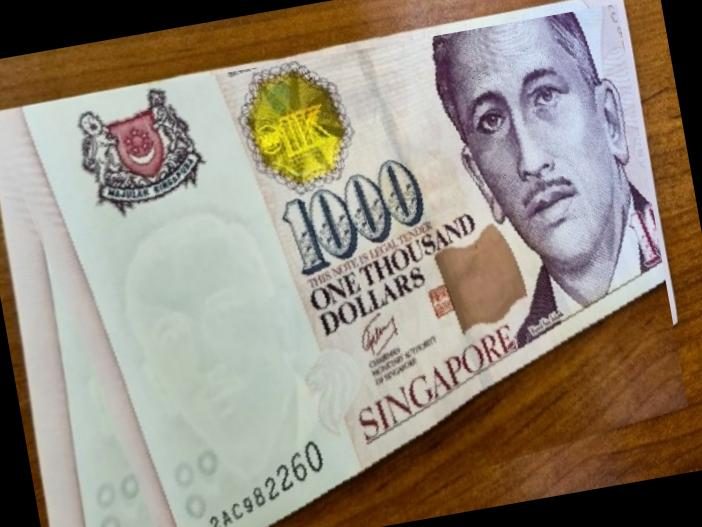1000SingaporeDollar: (0, 3, 699, 527)
